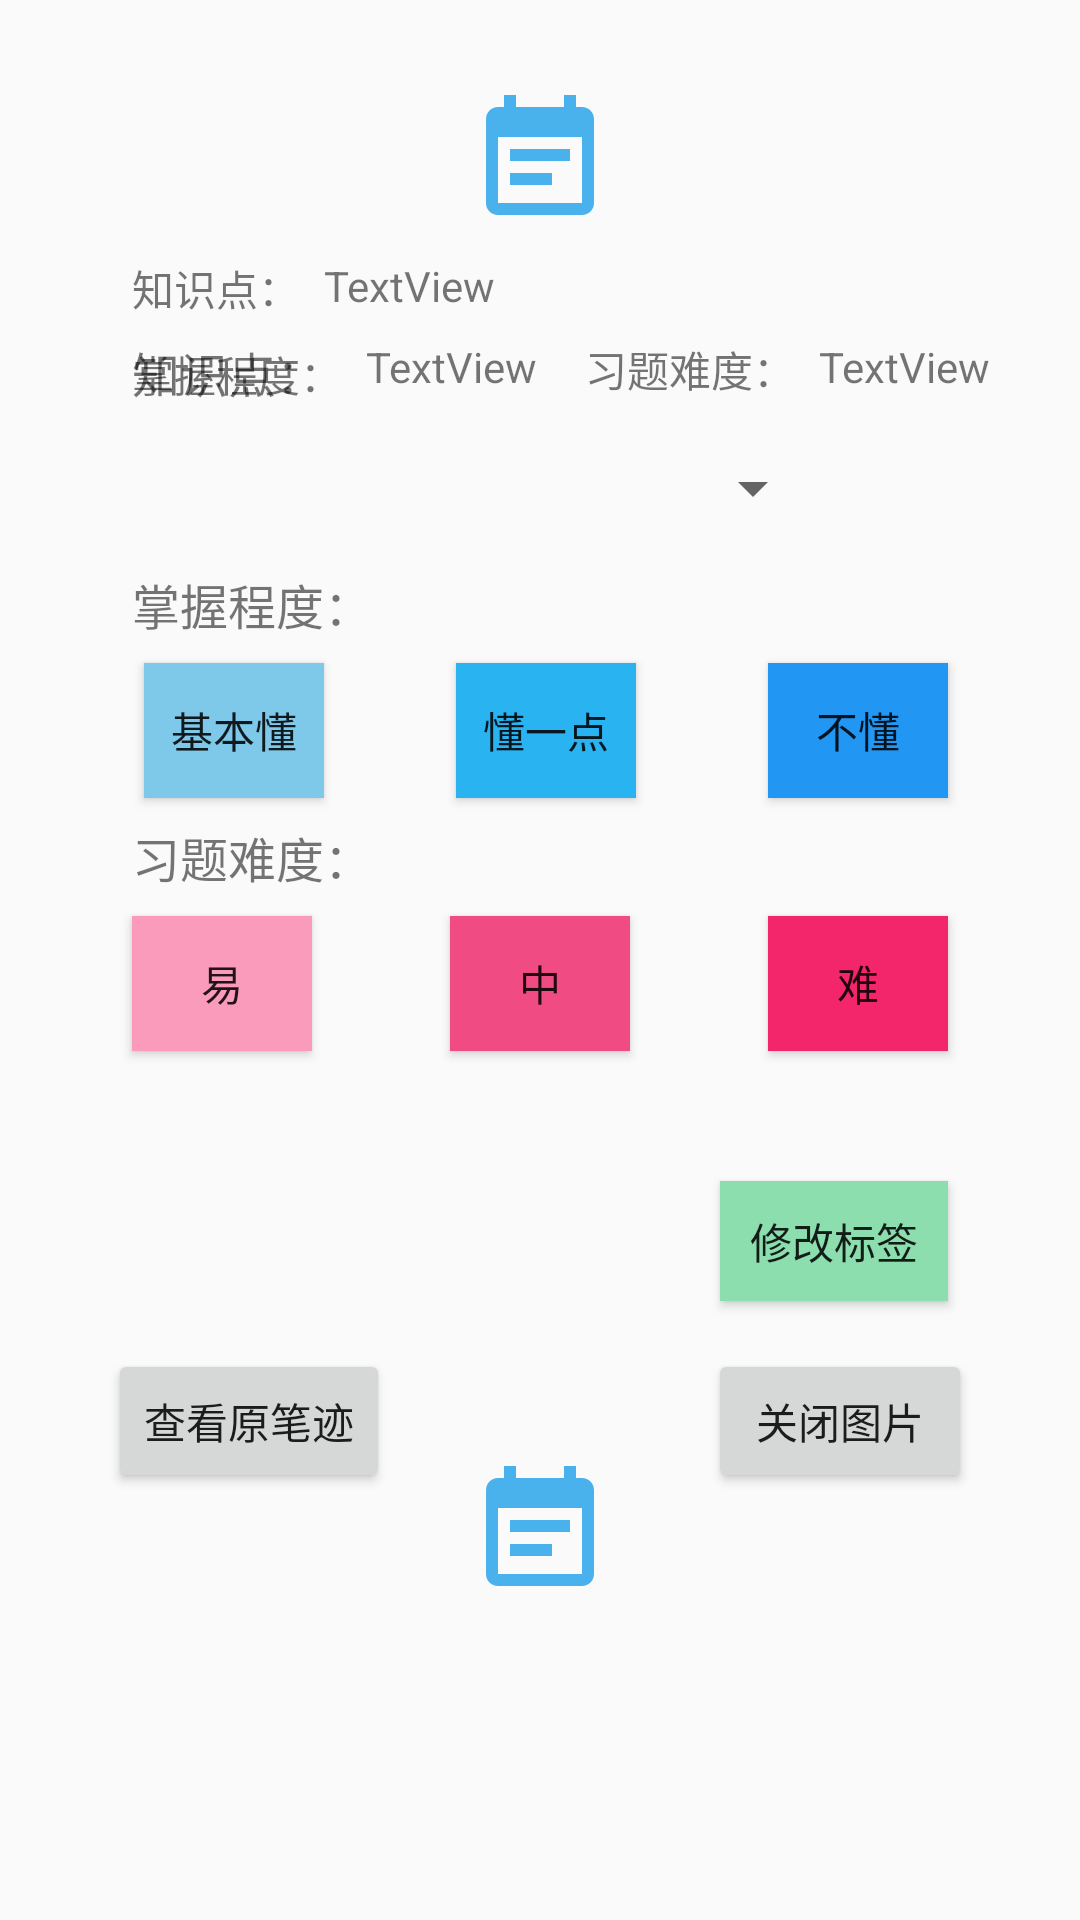

Screen size 1080 x 1920. Icon name, then its center in pixels as [x,y]:
note photo: [540,155], [540,1526]
